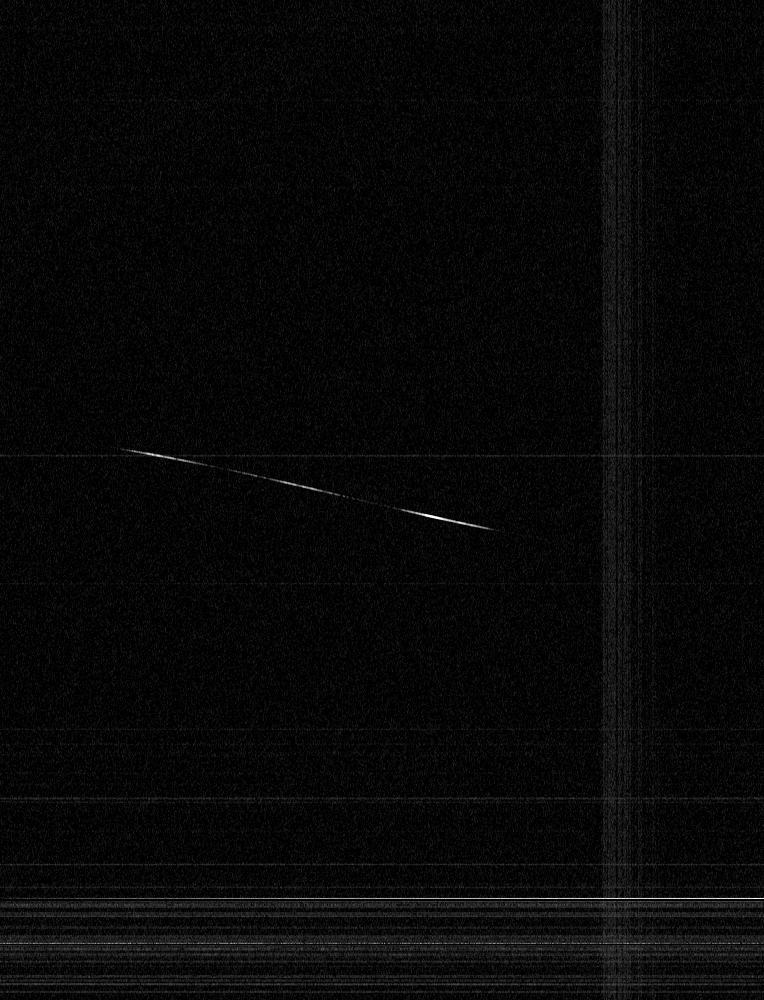signal: (0, 0, 763, 999)
